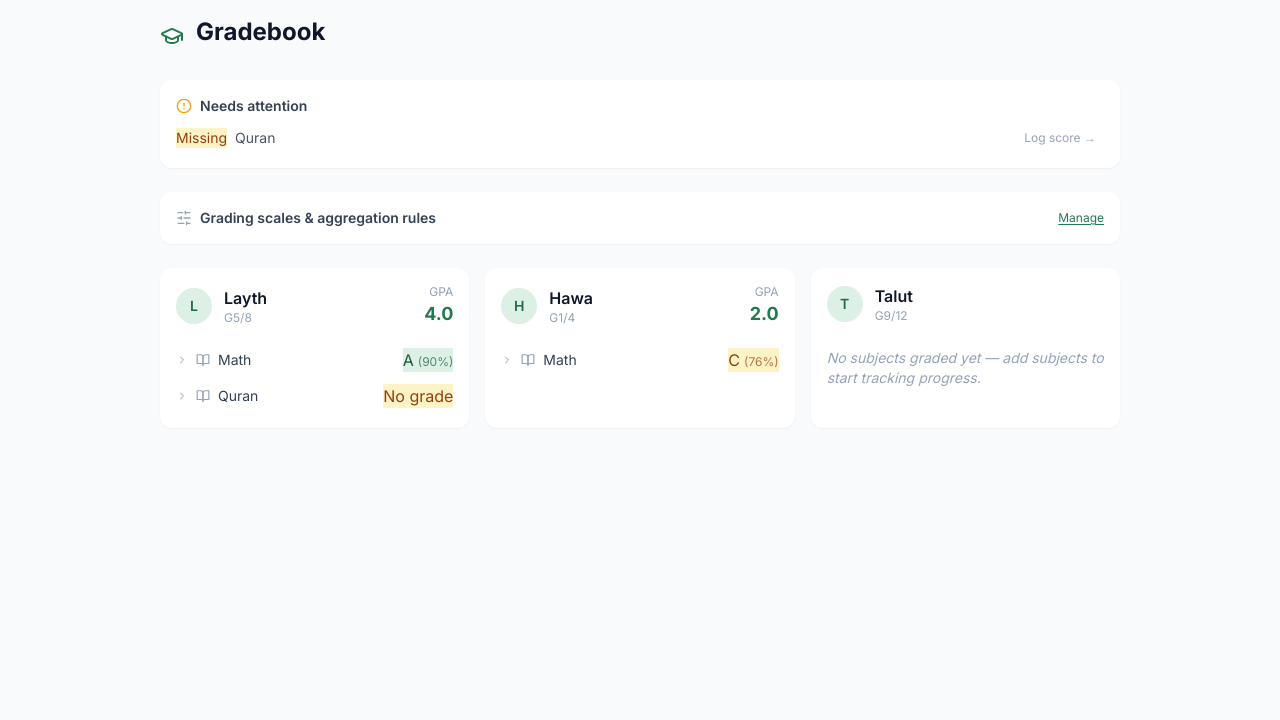
Test: GradebookPage › adds a score via the collapsible add-form
expect the text "Layth" is shown: met, box [224,286,267,310]
Click the button "Math A(90%)" at {"x": 235, "y": 360}, box [176,344,453,376]
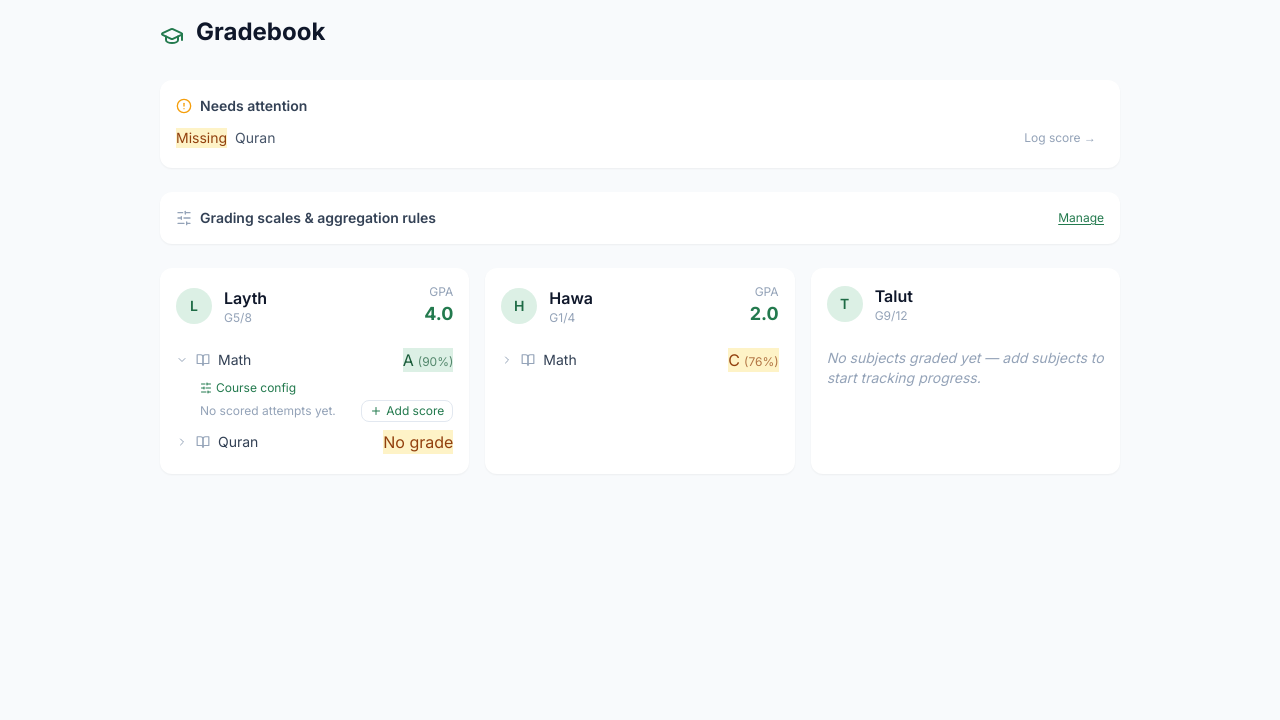
Click the button "Add score" at {"x": 407, "y": 411}, box [361,400,453,422]
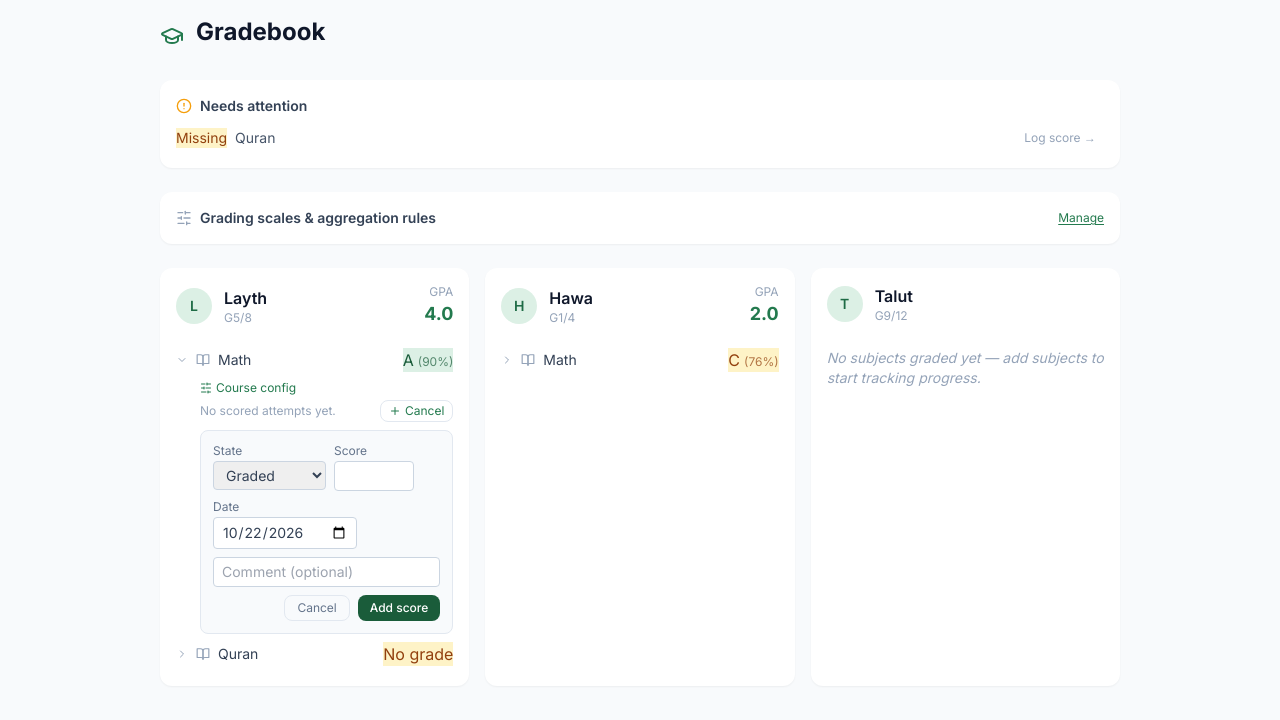
Type "91" into the number field named "Numeric score" at {"x": 374, "y": 476}, box [334,461,414,491]
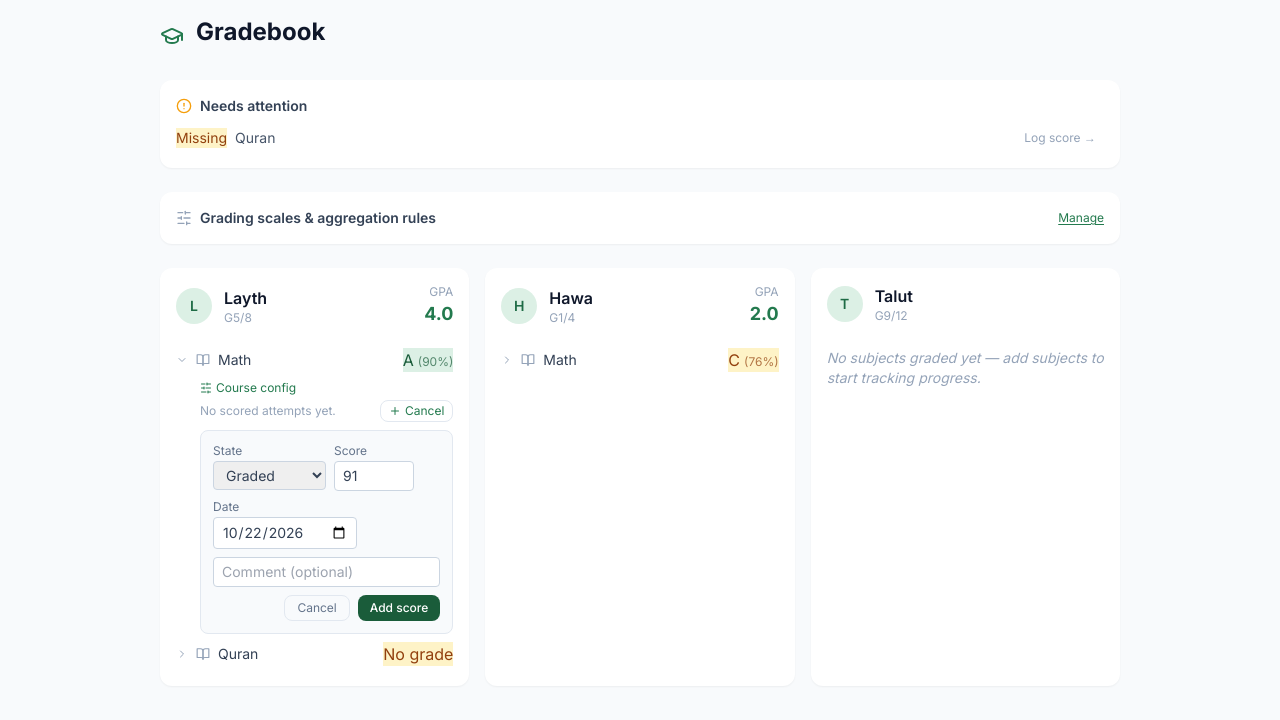
Click the button "Add score" at {"x": 399, "y": 608}, box [358,595,440,621]
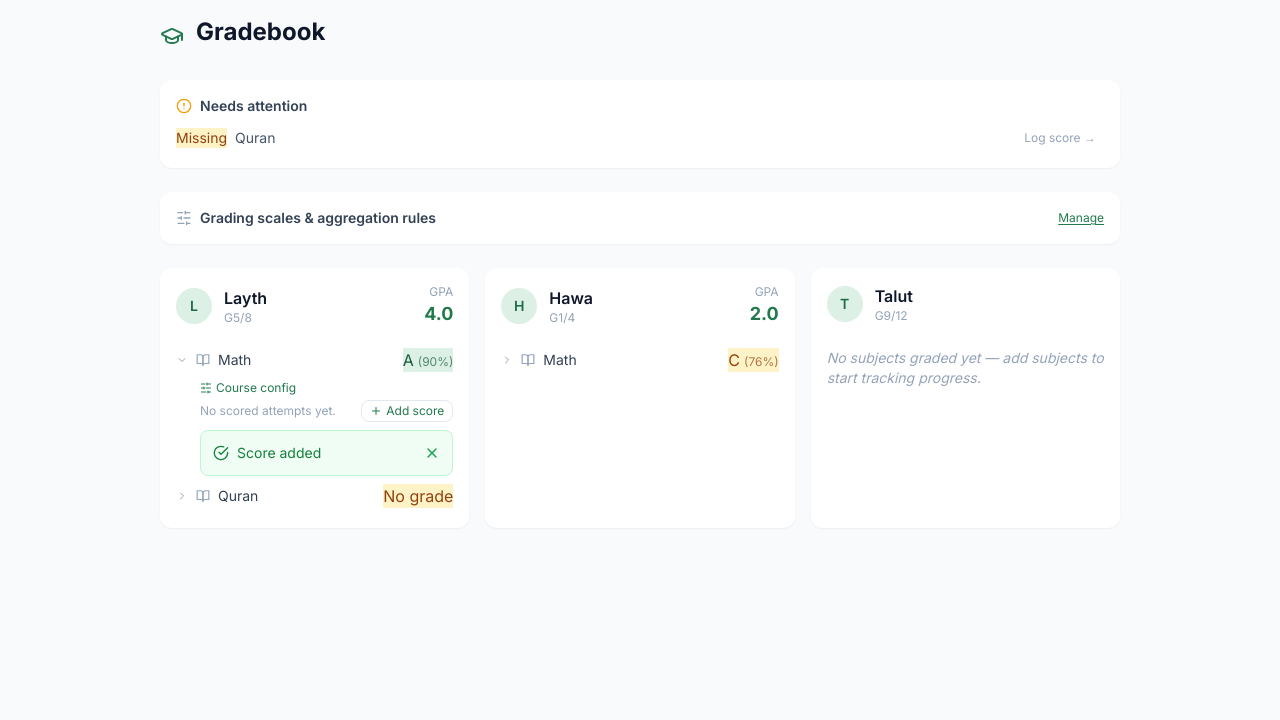
expect the text "Score added" is shown: met, box [237,443,321,463]
